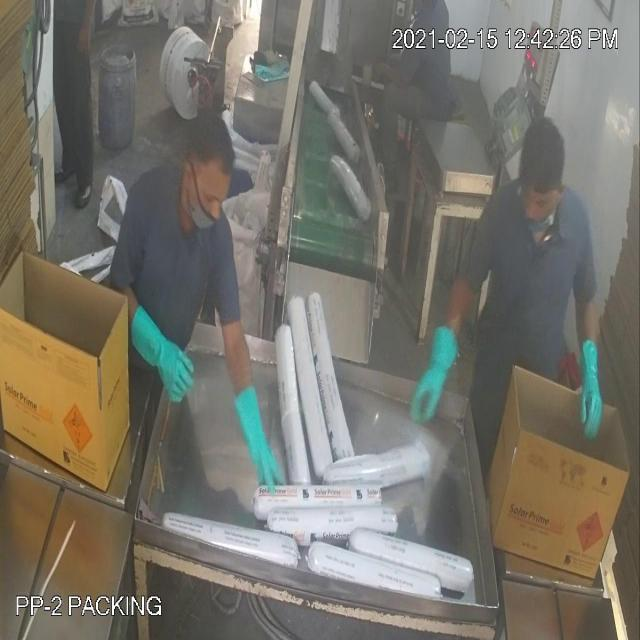gloves: (123, 282, 205, 426), (226, 383, 290, 514), (414, 326, 458, 438), (572, 332, 614, 448)
